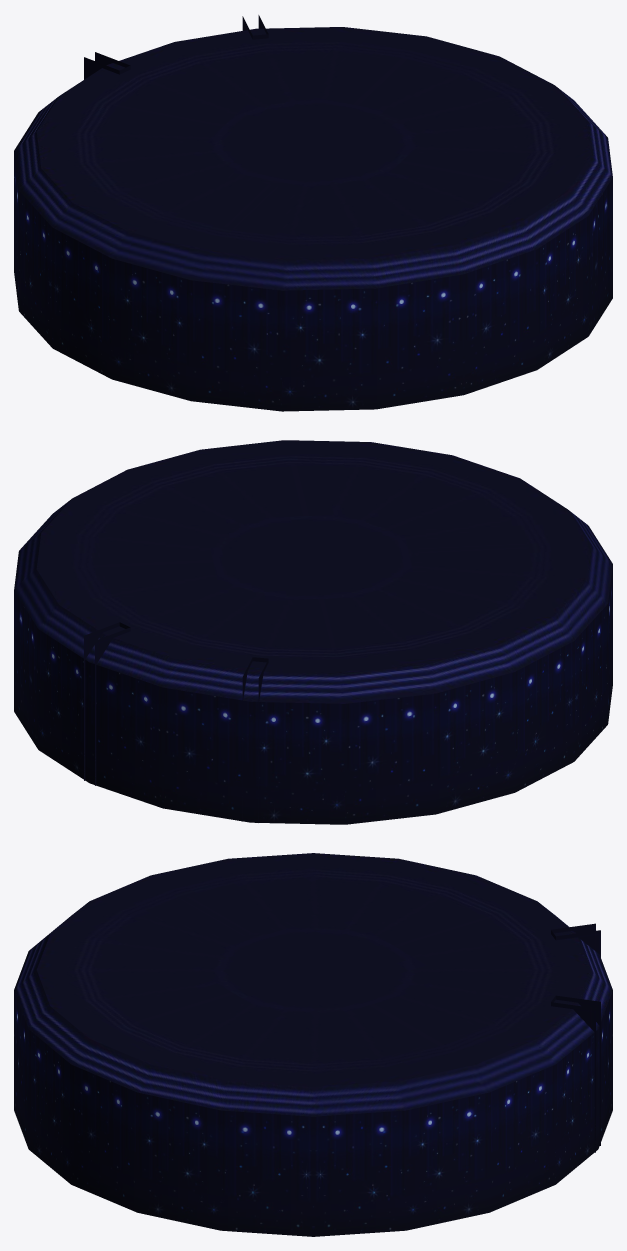
Rendered from Stage_v01.gltf.
3 renders of one model, top to bottom at view 1: azimuth 30°, elevation 25°; view 2: azimuth 150°, elevation 25°; view 3: azimuth 270°, elevation 25°, orthographic.
Parts seen in each view (by area): view 1: Stage1; view 2: Stage1; view 3: Stage1.
Part boxes in pixels (bbox=[...]): Stage1: bbox=[14, 15, 612, 411]; Stage1: bbox=[14, 440, 612, 824]; Stage1: bbox=[14, 853, 612, 1236].
Size of the model in its own units: 45.19 by 12.02 by 45.19.
2 materials, 2 textured.
